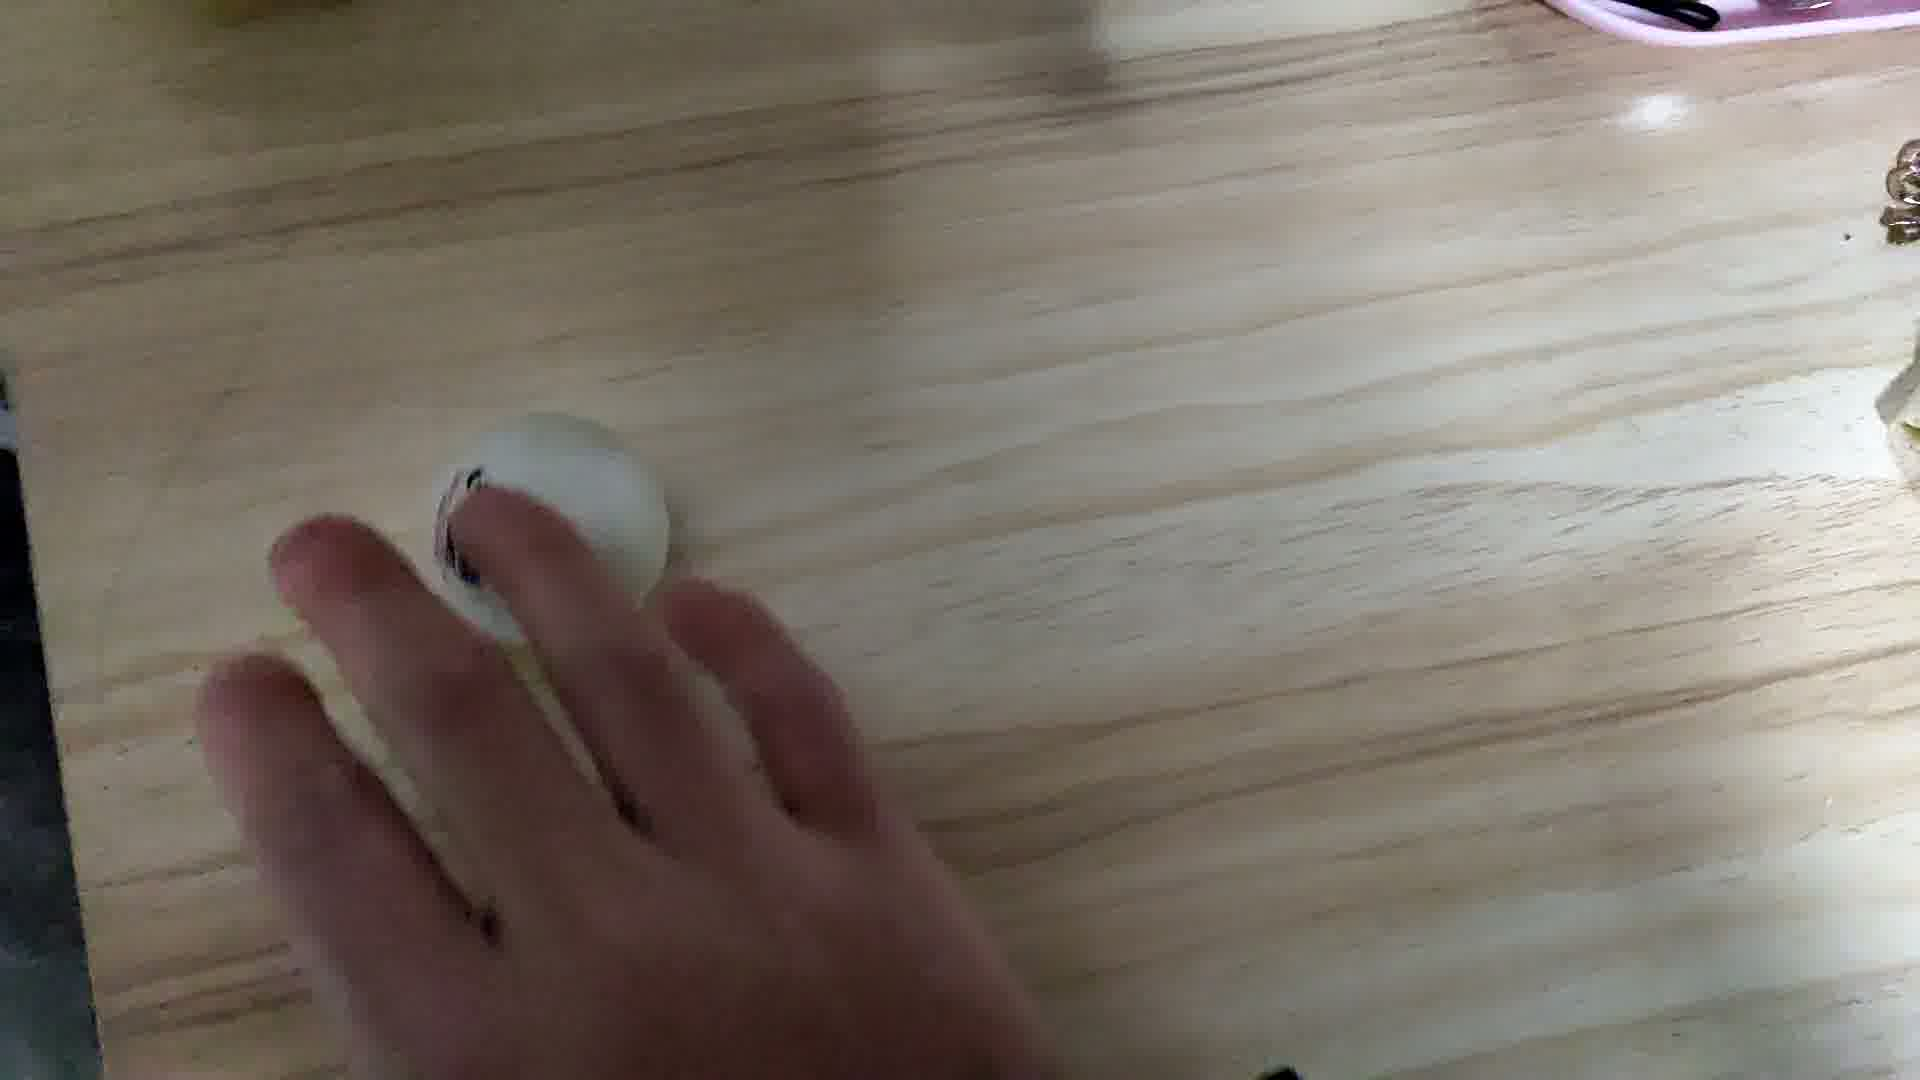Ball: (427, 411, 667, 645)
